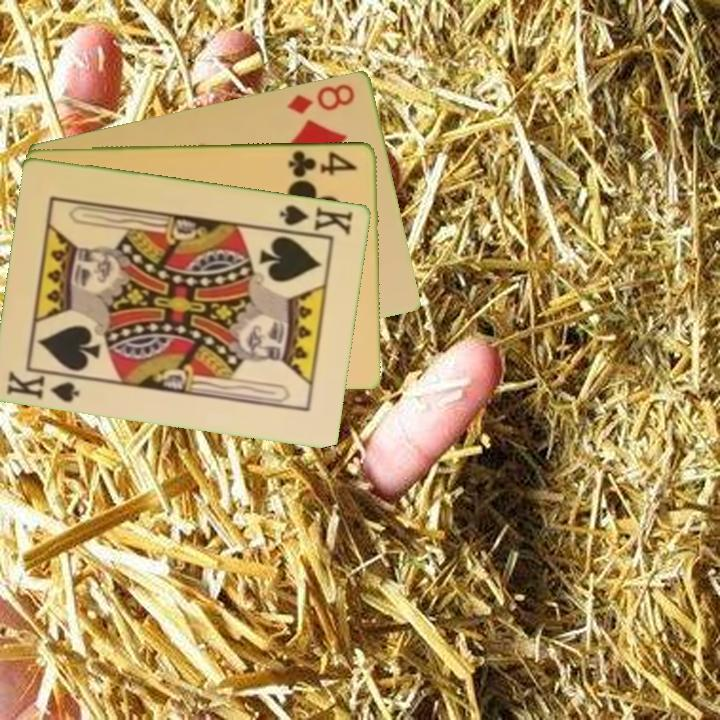4c: (285, 146, 360, 180)
8d: (284, 79, 358, 117)
Ks: (3, 366, 87, 405), (274, 201, 356, 239)
